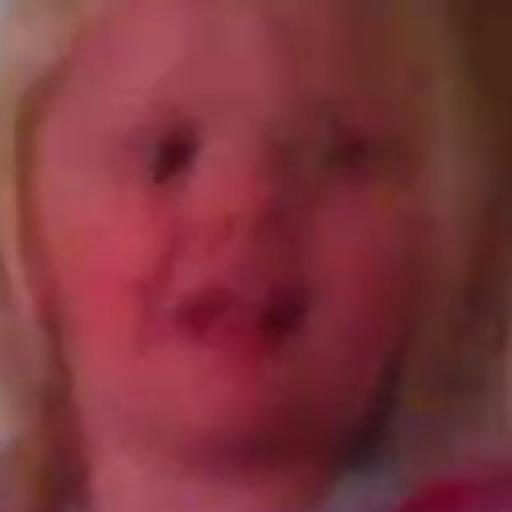Autism: (23, 28, 433, 441)
